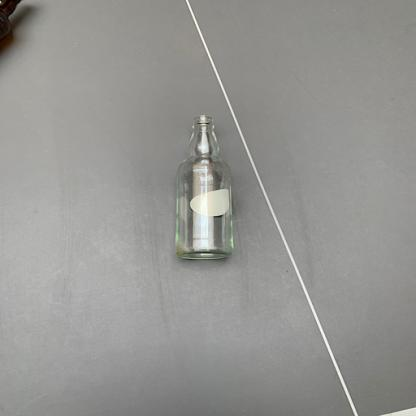trash: (173, 114, 239, 262)
